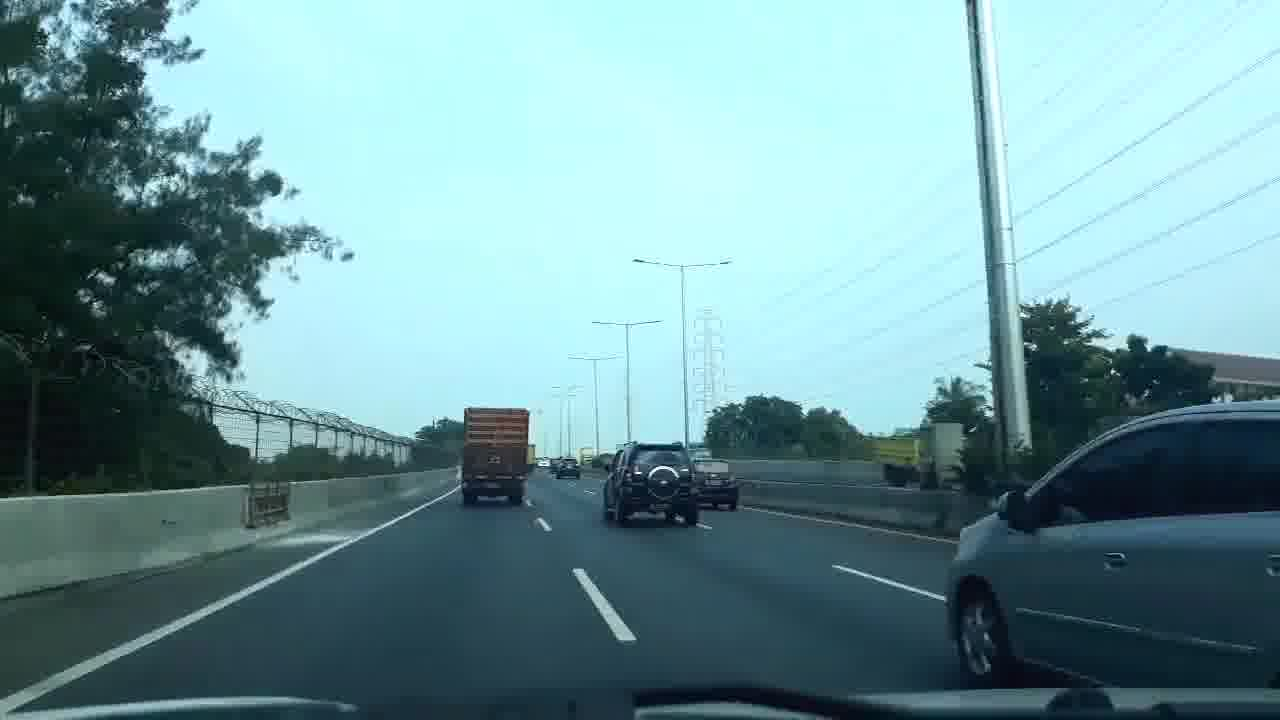plate_positive: (483, 481, 503, 489), (650, 504, 672, 511), (705, 479, 724, 486)
